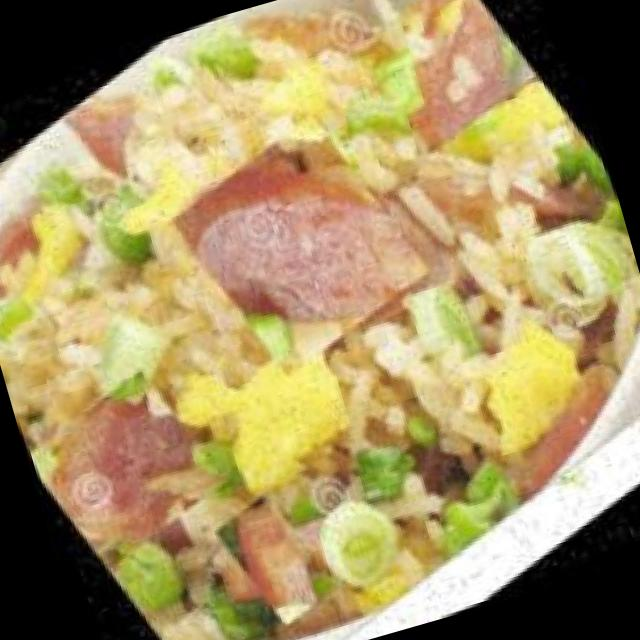chinese_sausage: (144, 86, 452, 402), (9, 346, 238, 584), (334, 0, 554, 169), (199, 482, 351, 634)
